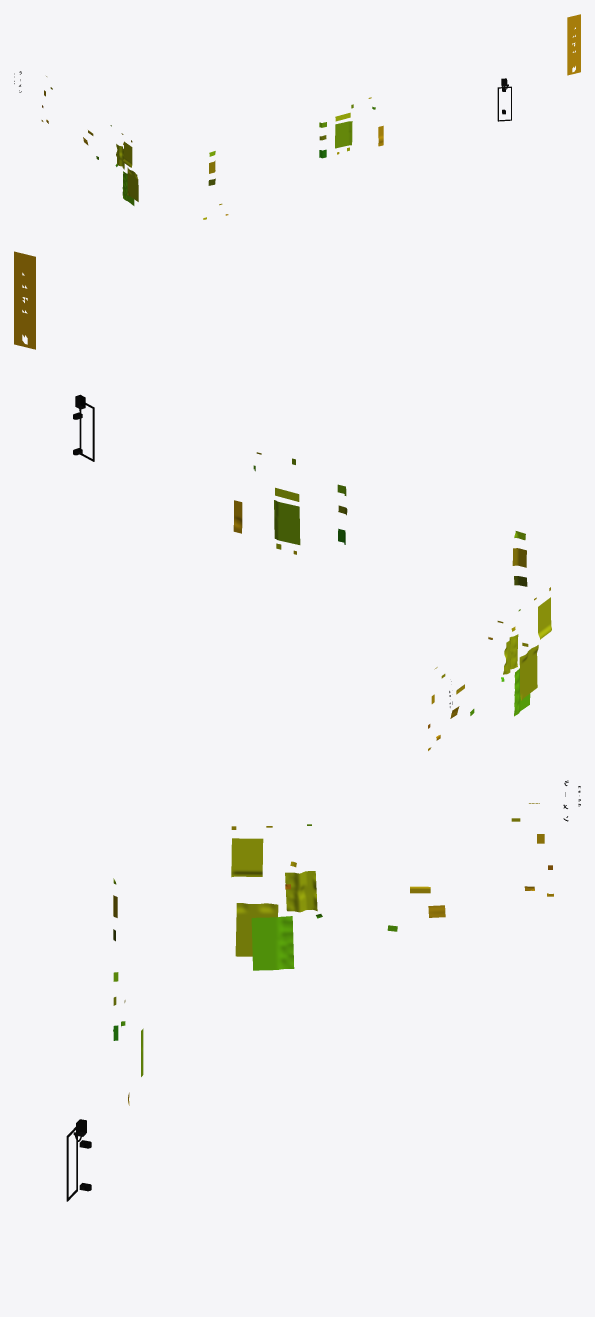
File: kiosk_graphics.glb
3 views of the same model, one above another, from view 1: azimuth 30°, elevation 25°; view 2: azimuth 150°, elevation 25°; view 3: azimuth 270°, elevation 25° (orthographic). The views are drawn at different scales.
Visible parts, largest first — view 1: SM_Kiosk_Graphics; view 2: SM_Kiosk_Graphics; view 3: SM_Kiosk_Graphics, SM_Kiosk_Signs.
Part boxes in pixels (box(x1,y1,x2,y2)): SM_Kiosk_Graphics: box(41, 14, 580, 219); SM_Kiosk_Graphics: box(14, 251, 551, 750); SM_Kiosk_Graphics: box(113, 803, 553, 1105); SM_Kiosk_Signs: box(66, 780, 580, 1201).
Size of the model in its own units: 6.73 by 2.44 by 4.09.
